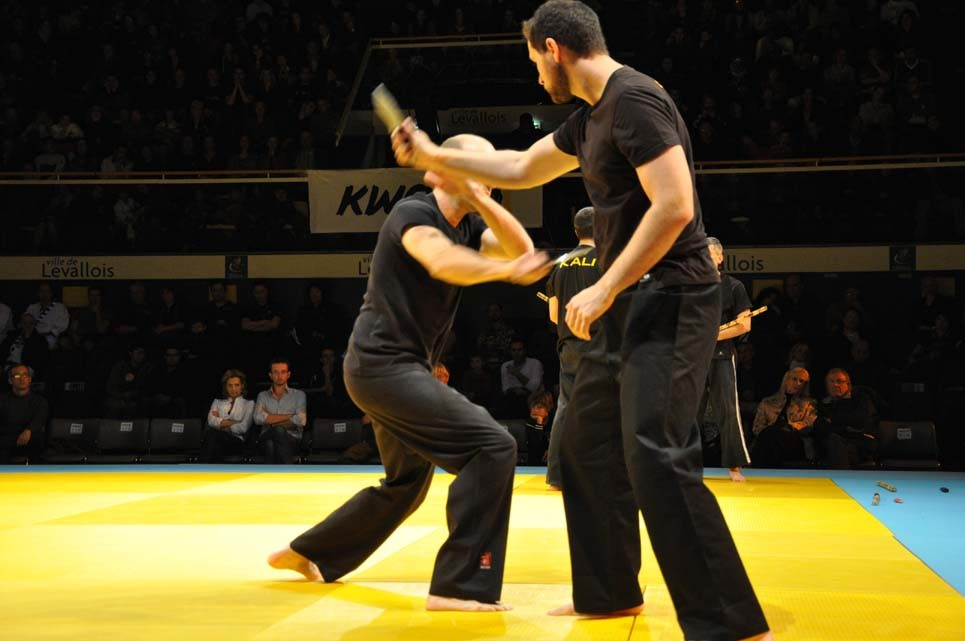baston_e: (721, 304, 764, 330)
baston_v: (760, 300, 769, 313), (534, 289, 543, 298)
